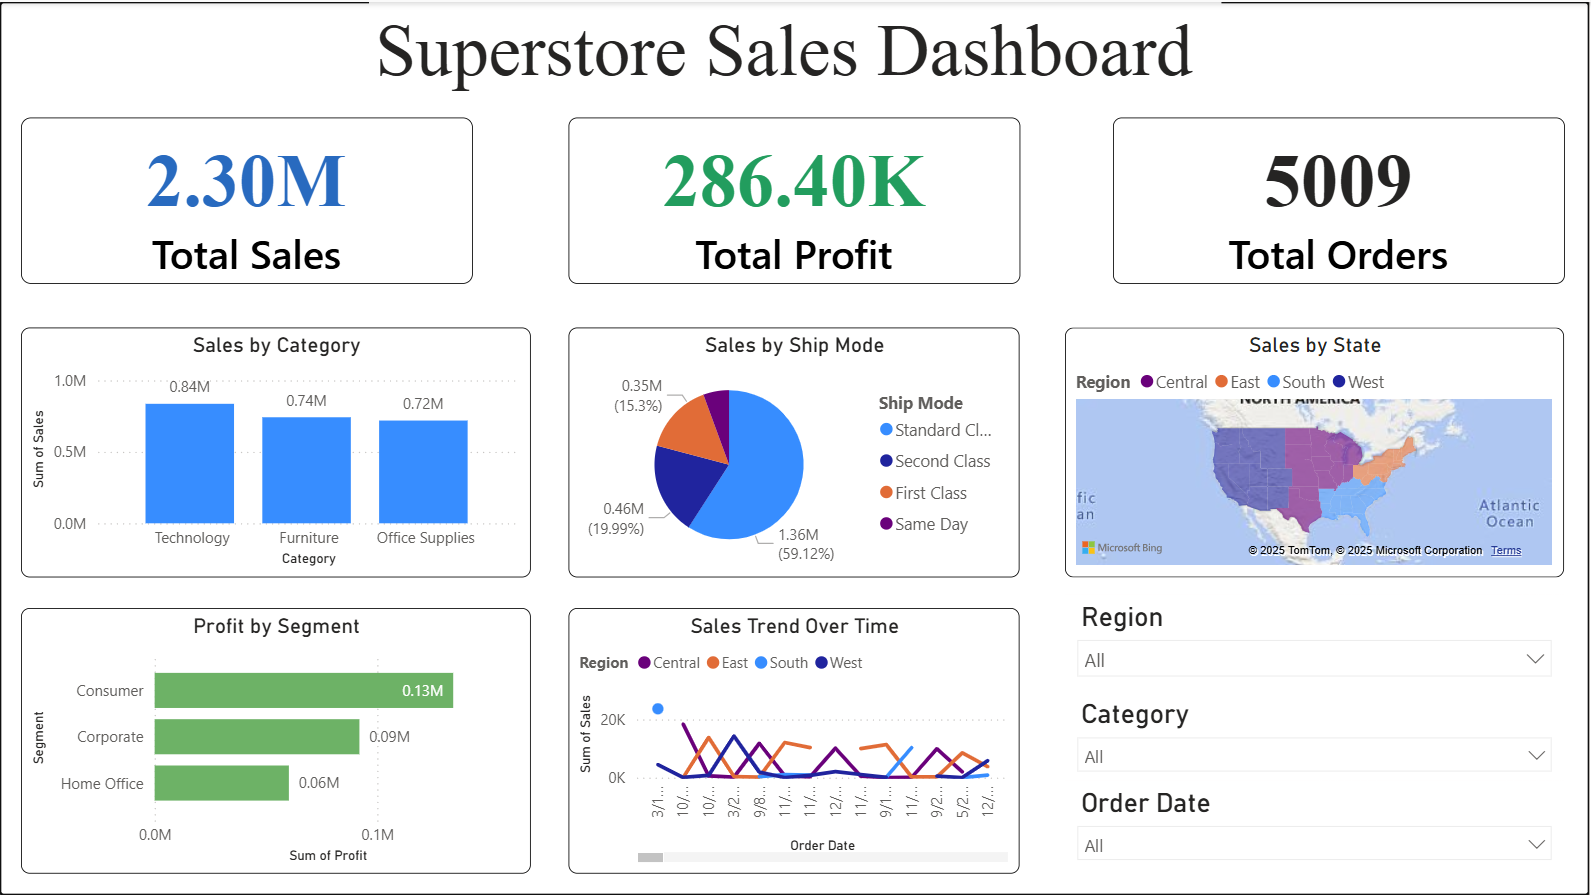

This screenshot's page, from the dashboard's own definition file:
{"tool":"powerbi","page":{"name":"Page 1","canvas":[1280,720],"ordinal":0},"visuals":[{"type":"card","fields":{"Values":["Sum(Worksheet.Sales)"]},"box":[16.9,93,363.7,134.1],"z":0},{"type":"card","fields":{"Values":["Sum(Worksheet.Profit)"]},"box":[458,93,363.7,134.1],"z":1000},{"type":"card","fields":{"Values":["Count(Worksheet.Order ID)"]},"box":[896.6,93,363.7,134.1],"z":2000},{"type":"textbox","box":[297.3,0,686.4,81.9],"z":3000},{"type":"clusteredColumnChart","title":"Sales by Category","fields":{"Category":["Worksheet.Category"],"Y":["Sum(Worksheet.Sales)"]},"box":[17.2,262.8,410.7,201],"z":4000},{"type":"barChart","title":"Profit by Segment","fields":{"Y":["Sum(Worksheet.Profit)"],"Category":["Worksheet.Segment"]},"box":[17.2,488.3,410.7,214],"z":5000},{"type":"pieChart","title":"Sales by Ship Mode","fields":{"Category":["Worksheet.Ship Mode"],"Y":["Sum(Worksheet.Sales)"]},"box":[458.1,262.8,363.3,201],"z":6000},{"type":"filledMap","title":"Sales by State","fields":{"Category":["Worksheet.State"],"Series":["Worksheet.Region"]},"box":[857.3,262.8,402.1,201],"z":7000},{"type":"lineChart","title":"Sales Trend Over Time","fields":{"Category":["Worksheet.Order Date"],"Series":["Worksheet.Region"],"Y":["Sum(Worksheet.Sales)"]},"box":[458.1,488.3,363.3,214],"z":8000},{"type":"slicer","fields":{"Values":["Worksheet.Region"]},"box":[857.3,476.8,402.1,70.4],"z":9000},{"type":"slicer","fields":{"Values":["Worksheet.Category"]},"box":[857.3,555.8,402.1,71.8],"z":11000},{"type":"slicer","fields":{"Values":["Worksheet.Order Date"]},"box":[857.3,627.6,402.1,74.7],"z":12000}]}

Visuals, with their boxes in screenshot pixels (x1, y1, x2, y2), scaled from the page's 1280x720 canvas onto the 1591x895 screenshot:
card - Sum(Worksheet.Sales): {"x1": 21, "y1": 116, "x2": 473, "y2": 282}
card - Sum(Worksheet.Profit): {"x1": 569, "y1": 116, "x2": 1021, "y2": 282}
card - Count(Worksheet.Order ID): {"x1": 1114, "y1": 116, "x2": 1567, "y2": 282}
textbox: {"x1": 370, "y1": 0, "x2": 1223, "y2": 102}
"Sales by Category" clusteredColumnChart: {"x1": 21, "y1": 327, "x2": 532, "y2": 577}
"Profit by Segment" barChart: {"x1": 21, "y1": 607, "x2": 532, "y2": 873}
"Sales by Ship Mode" pieChart: {"x1": 569, "y1": 327, "x2": 1021, "y2": 577}
"Sales by State" filledMap: {"x1": 1066, "y1": 327, "x2": 1565, "y2": 577}
"Sales Trend Over Time" lineChart: {"x1": 569, "y1": 607, "x2": 1021, "y2": 873}
slicer - Worksheet.Region: {"x1": 1066, "y1": 593, "x2": 1565, "y2": 680}
slicer - Worksheet.Category: {"x1": 1066, "y1": 691, "x2": 1565, "y2": 780}
slicer - Worksheet.Order Date: {"x1": 1066, "y1": 780, "x2": 1565, "y2": 873}
